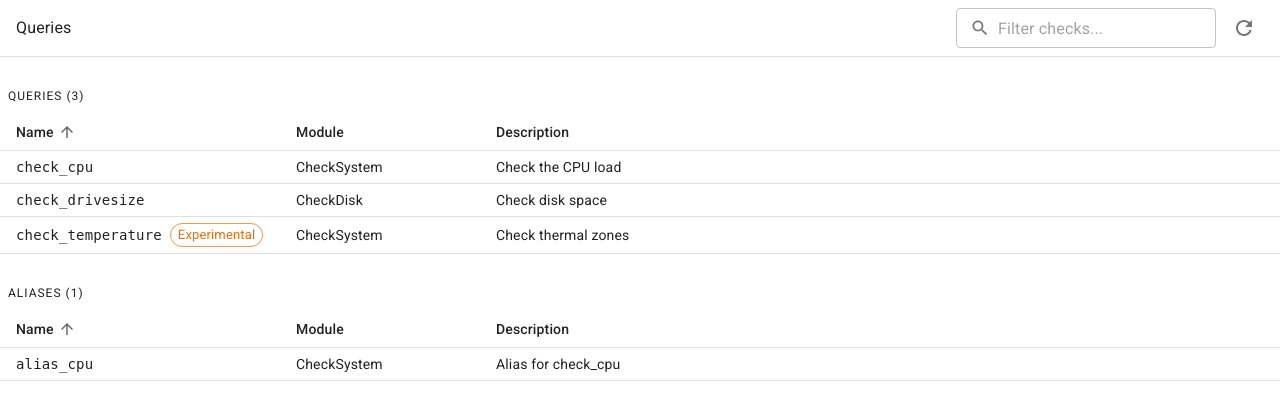
Scenario: Queries page › filters both tables from the filter field
Expected: the text "check_cpu" is shown, [16,157,93,177]
Type "drivesize" into the field with placeholder "Filter checks...". click: (1107, 28)
box: [998,8,1216,48]
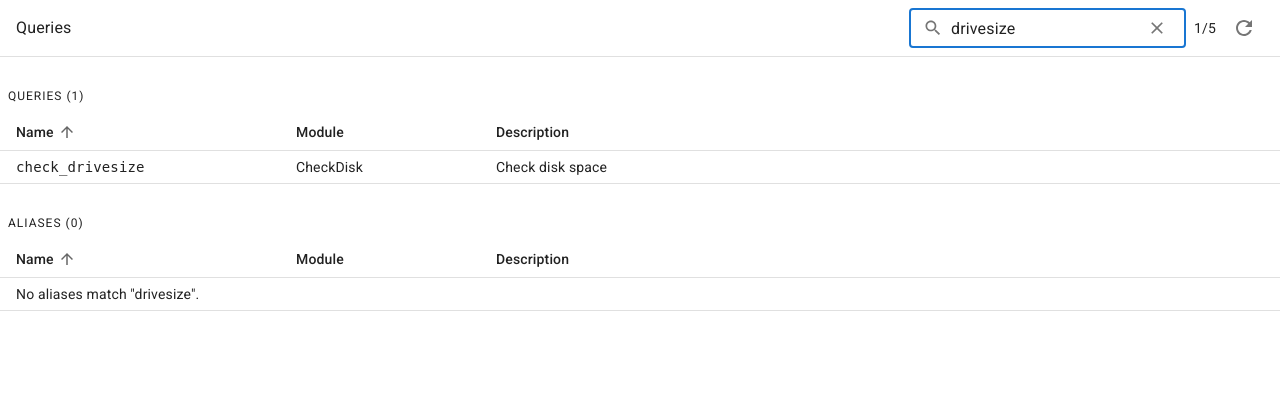
Expected: the text "check_cpu" is gone
Expected: the text "alias_cpu" is gone
Expected: the text "No aliases match \"drivesize\"." is shown, [16,286,199,302]
